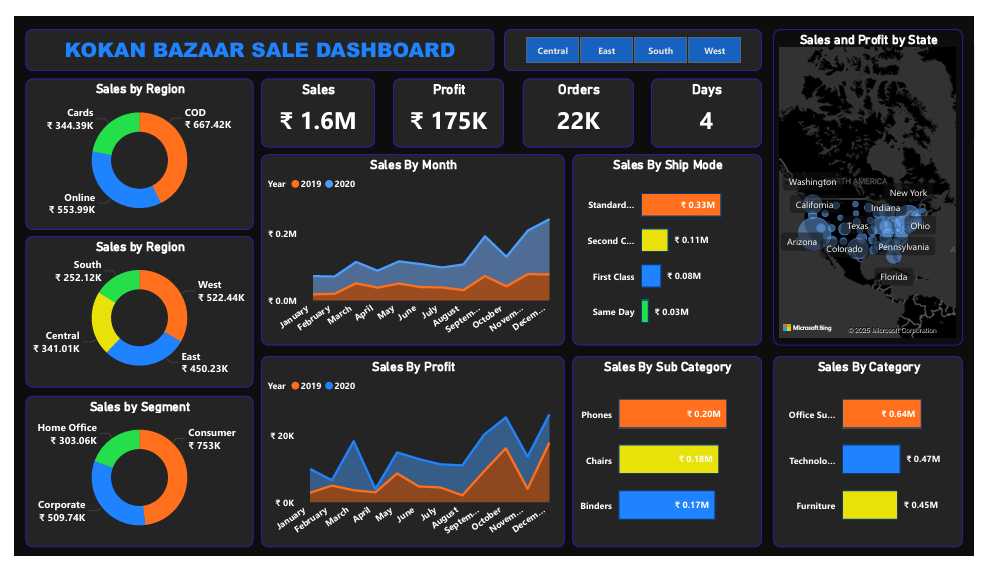

What the dashboard file says about the page in this screenshot:
{"tool":"powerbi","page":{"name":"Page 1","canvas":[1280,720],"ordinal":0},"visuals":[{"type":"clusteredBarChart","title":"Sales By Category","fields":{"Category":["SuperStore_Sales_Dataset.Category"],"Y":["Sum(SuperStore_Sales_Dataset.Sales)"]},"box":[1010.9,452.2,253.4,254.9],"z":0},{"type":"clusteredBarChart","title":"Sales By Sub Category","fields":{"Y":["Sum(SuperStore_Sales_Dataset.Sales)"],"Category":["SuperStore_Sales_Dataset.Sub-Category"]},"box":[743,452.2,253.4,254.9],"z":1000},{"type":"clusteredBarChart","title":"Sales By Ship Mode","fields":{"Y":["Sum(SuperStore_Sales_Dataset.Sales)"],"Category":["SuperStore_Sales_Dataset.Ship Mode"]},"box":[743,182.9,253.4,254.9],"z":2000},{"type":"stackedAreaChart","title":"Sales By Month","fields":{"Category":["SuperStore_Sales_Dataset.Order Date.Variation.Date Hierarchy.Month"],"Y":["Sum(SuperStore_Sales_Dataset.Sales)"],"Series":["SuperStore_Sales_Dataset.Order Date.Variation.Date Hierarchy.Year"]},"box":[328.3,182.9,404.6,254.9],"z":3000},{"type":"stackedAreaChart","title":"Sales By Profit","fields":{"Category":["SuperStore_Sales_Dataset.Order Date.Variation.Date Hierarchy.Month"],"Series":["SuperStore_Sales_Dataset.Order Date.Variation.Date Hierarchy.Year"],"Y":["Sum(SuperStore_Sales_Dataset.Profit)"]},"box":[328.3,452.2,404.6,254.9],"z":4000},{"type":"map","title":" Sales and  Profit by State","fields":{"Category":["SuperStore_Sales_Dataset.State"],"Size":["Sum(SuperStore_Sales_Dataset.Sales)"]},"box":[1010.9,15.8,253.4,421.9],"z":5000},{"type":"donutChart","title":" Sales by Segment","fields":{"Category":["SuperStore_Sales_Dataset.Segment"],"Y":["Sum(SuperStore_Sales_Dataset.Sales)"]},"box":[14.4,505.4,303.8,201.6],"z":6000},{"type":"donutChart","title":" Sales by Region","fields":{"Y":["Sum(SuperStore_Sales_Dataset.Sales)"],"Category":["SuperStore_Sales_Dataset.Region"]},"box":[14.4,292.3,303.8,201.6],"z":7000},{"type":"donutChart","title":" Sales by Region","fields":{"Y":["Sum(SuperStore_Sales_Dataset.Sales)"],"Category":["SuperStore_Sales_Dataset.Payment Mode"]},"box":[14.4,82.1,303.8,201.6],"z":8000},{"type":"textbox","box":[14.4,15.8,625,56.2],"z":9000},{"type":"slicer","fields":{"Values":["SuperStore_Sales_Dataset.Region"]},"box":[652.3,15.8,344.2,56.2],"z":10000},{"type":"card","title":"Sales","fields":{"Values":["Sum(SuperStore_Sales_Dataset.Sales)"]},"box":[328.3,82.1,151.2,92.2],"z":11000},{"type":"card","title":"Profit","fields":{"Values":["Sum(SuperStore_Sales_Dataset.Profit)"]},"box":[504,82.1,148.3,92.2],"z":12000},{"type":"card","title":"Orders","fields":{"Values":["Sum(SuperStore_Sales_Dataset.Quantity)"]},"box":[676.8,82.1,148.3,92.2],"z":13000},{"type":"card","title":"Days","fields":{"Values":["Avg(SuperStore_Sales_Dataset.avgDelivery)"]},"box":[848.2,82.1,148.3,92.2],"z":14000}]}

Visuals, with their boxes in screenshot pixels (x1, y1, x2, y2), scaled from the page's 1280x720 canvas onto the 993x570 screenshot:
"Sales By Category" clusteredBarChart: {"left": 784, "top": 358, "right": 981, "bottom": 560}
"Sales By Sub Category" clusteredBarChart: {"left": 576, "top": 358, "right": 773, "bottom": 560}
"Sales By Ship Mode" clusteredBarChart: {"left": 576, "top": 145, "right": 773, "bottom": 347}
"Sales By Month" stackedAreaChart: {"left": 255, "top": 145, "right": 569, "bottom": 347}
"Sales By Profit" stackedAreaChart: {"left": 255, "top": 358, "right": 569, "bottom": 560}
" Sales and  Profit by State" map: {"left": 784, "top": 13, "right": 981, "bottom": 347}
" Sales by Segment" donutChart: {"left": 11, "top": 400, "right": 247, "bottom": 560}
" Sales by Region" donutChart: {"left": 11, "top": 231, "right": 247, "bottom": 391}
" Sales by Region" donutChart: {"left": 11, "top": 65, "right": 247, "bottom": 225}
textbox: {"left": 11, "top": 13, "right": 496, "bottom": 57}
slicer - SuperStore_Sales_Dataset.Region: {"left": 506, "top": 13, "right": 773, "bottom": 57}
"Sales" card: {"left": 255, "top": 65, "right": 372, "bottom": 138}
"Profit" card: {"left": 391, "top": 65, "right": 506, "bottom": 138}
"Orders" card: {"left": 525, "top": 65, "right": 640, "bottom": 138}
"Days" card: {"left": 658, "top": 65, "right": 773, "bottom": 138}
